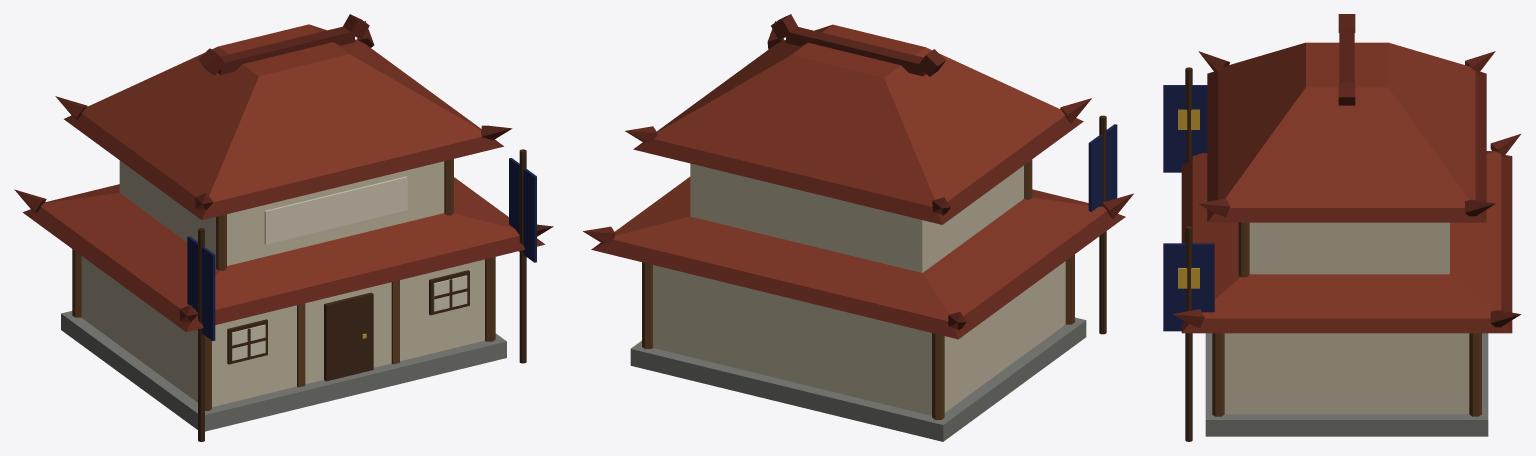
The model's file is SM_GZ_guild_ember.fbx.
3 renders of one model, left to right at view 1: azimuth 30°, elevation 25°; view 2: azimuth 150°, elevation 25°; view 3: azimuth 270°, elevation 25°, orthographic. The views are drawn at different scales.
Visible parts, largest first — view 1: SM_GZ_guild_ember; view 2: SM_GZ_guild_ember; view 3: SM_GZ_guild_ember.
Part boxes in pixels (x1=…): SM_GZ_guild_ember: x1=14, y1=14, x2=553, y2=441; SM_GZ_guild_ember: x1=583, y1=14, x2=1133, y2=441; SM_GZ_guild_ember: x1=1163, y1=14, x2=1520, y2=441.
Bounding box in the file's own units: 1164 × 939 × 975.
